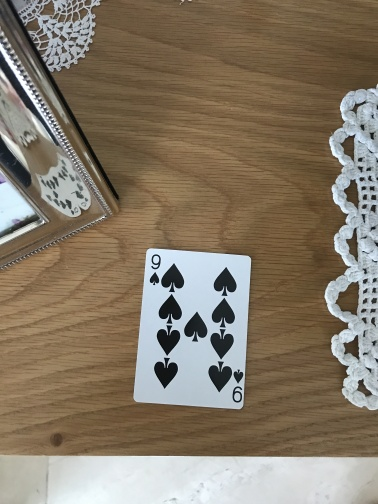nine: (131, 248, 254, 412)
